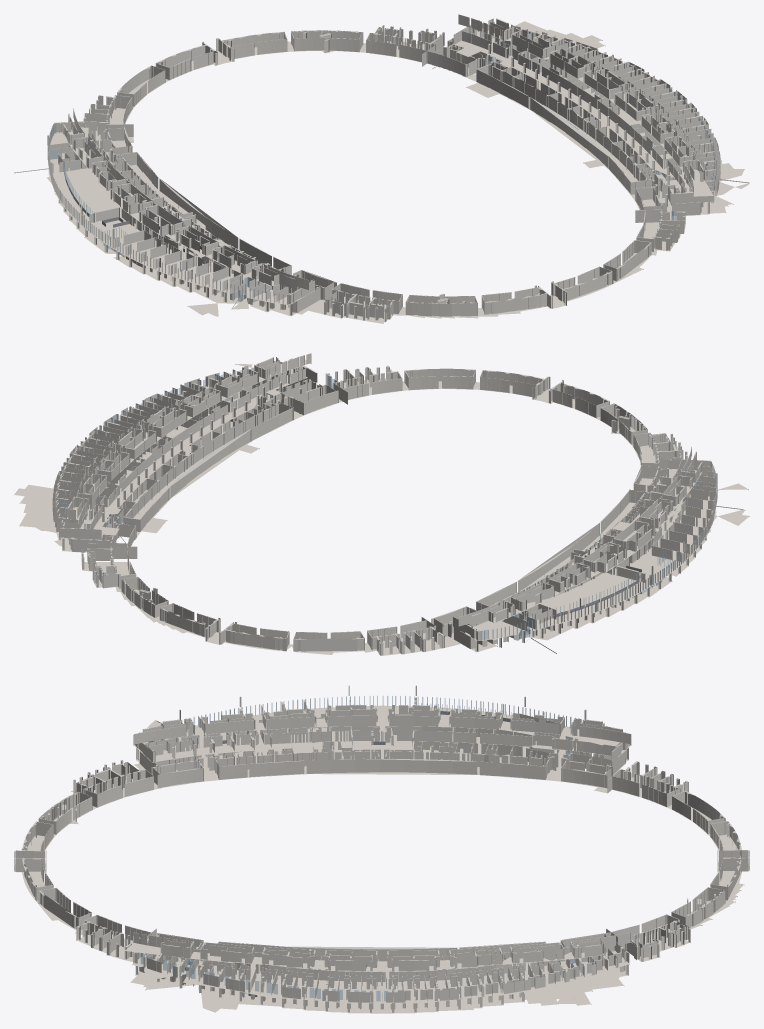
3 renders of one model, top to bottom at view 1: azimuth 30°, elevation 25°; view 2: azimuth 150°, elevation 25°; view 3: azimuth 270°, elevation 25°, orthographic. The views are drawn at different scales.
Parts seen in each view (by area): view 1: Этаж1_Стены, Этаж2_Стены, Этаж3_Стены, Этаж2_Плита, Этаж1_Плита, Этаж3_Плита, Этаж2_Витражи; view 2: Этаж1_Стены, Этаж2_Стены, Этаж3_Стены, Этаж2_Плита, Этаж1_Плита, Этаж2_Витражи, Этаж3_Плита; view 3: Этаж1_Стены, Этаж2_Стены, Этаж3_Стены, Этаж2_Плита, Этаж1_Плита, Этаж3_Плита, Этаж2_Витражи.
Part boxes in pixels (box(x1,y1,x2,y2)): Этаж1_Стены: box(54, 25, 713, 321); Этаж2_Стены: box(47, 20, 720, 304); Этаж3_Стены: box(47, 14, 704, 289); Этаж2_Плита: box(48, 21, 749, 309); Этаж1_Плита: box(14, 38, 744, 323); Этаж3_Плита: box(62, 30, 713, 286); Этаж2_Витражи: box(48, 33, 715, 303); Этаж1_Стены: box(58, 365, 710, 655); Этаж2_Стены: box(52, 358, 717, 640); Этаж3_Стены: box(67, 353, 717, 626); Этаж2_Плита: box(14, 364, 748, 640); Этаж1_Плита: box(54, 378, 749, 655); Этаж2_Витражи: box(59, 361, 716, 640); Этаж3_Плита: box(66, 356, 702, 623); Этаж1_Стены: box(14, 708, 749, 1012); Этаж2_Стены: box(133, 695, 630, 1002); Этаж3_Стены: box(133, 685, 631, 971); Этаж2_Плита: box(132, 705, 631, 1005); Этаж1_Плита: box(14, 725, 749, 1013); Этаж3_Плита: box(125, 715, 609, 971); Этаж2_Витражи: box(140, 696, 583, 1001).
Size of the model in its own units: 202 by 11.03 by 210.
